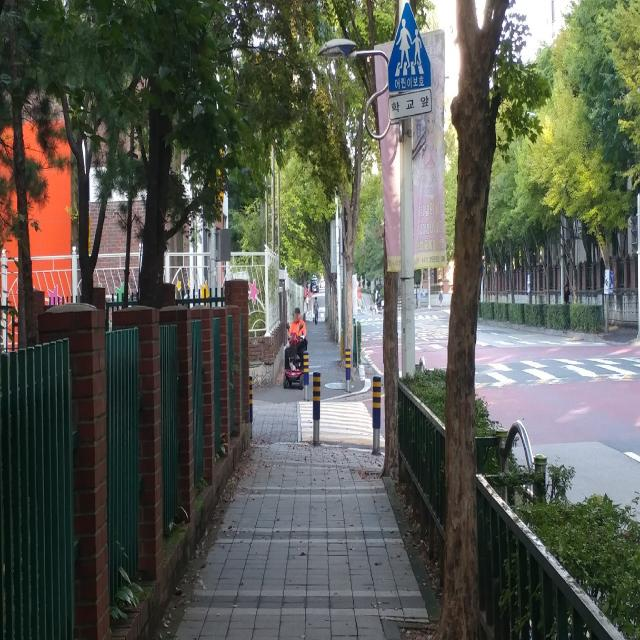횡단보도: (476, 332, 640, 390), (298, 400, 386, 442)
